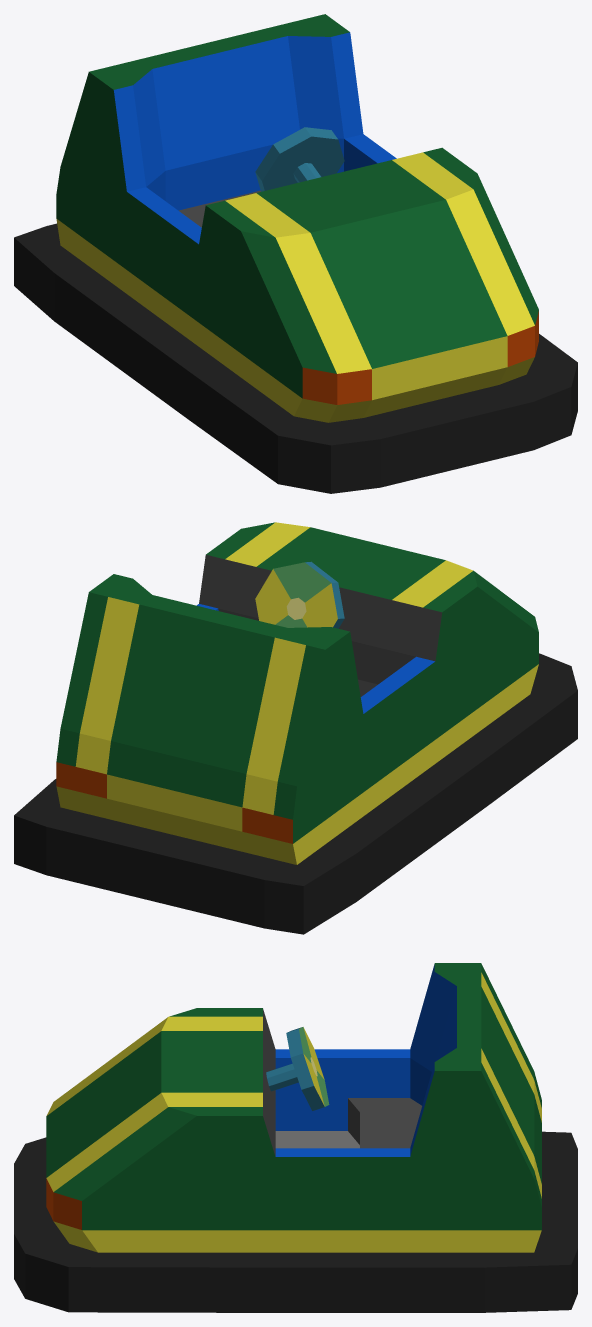
File: BumperCar02.fbx
3 renders of one model, top to bottom at view 1: azimuth 30°, elevation 25°; view 2: azimuth 150°, elevation 25°; view 3: azimuth 270°, elevation 25°, orthographic. The views are drawn at different scales.
Parts seen in each view (by area): view 1: BumperCar02; view 2: BumperCar02; view 3: BumperCar02.
Part boxes in pixels (box(x1,y1,x2,y2)): BumperCar02: box(14, 14, 577, 493); BumperCar02: box(14, 522, 577, 934); BumperCar02: box(14, 963, 577, 1312).
Bounding box in the file's own units: 132 × 101 × 228.
